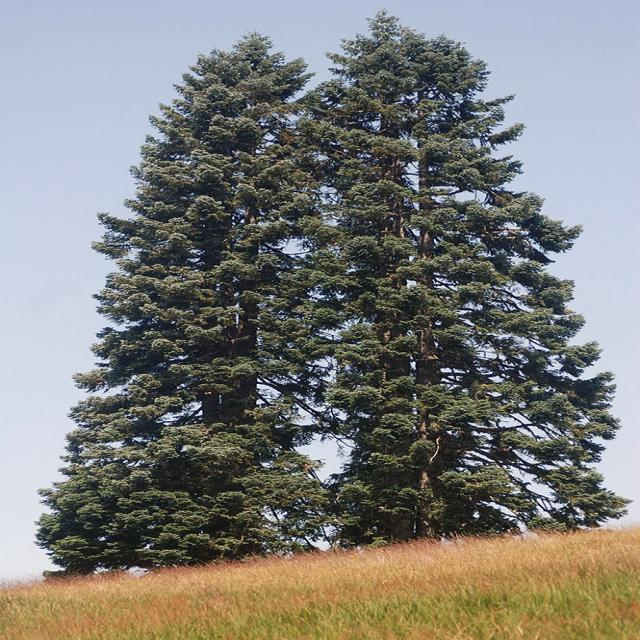Abies: (345, 11, 635, 542), (66, 24, 345, 572)
